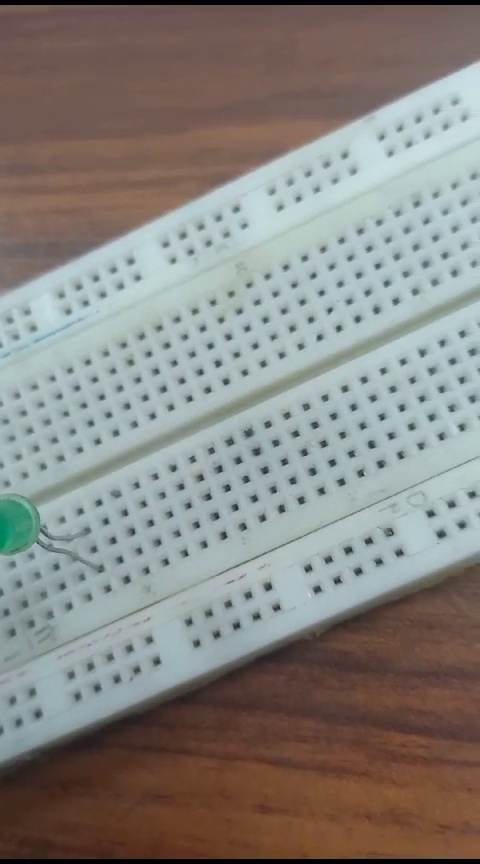LED: (6, 484, 103, 573)
